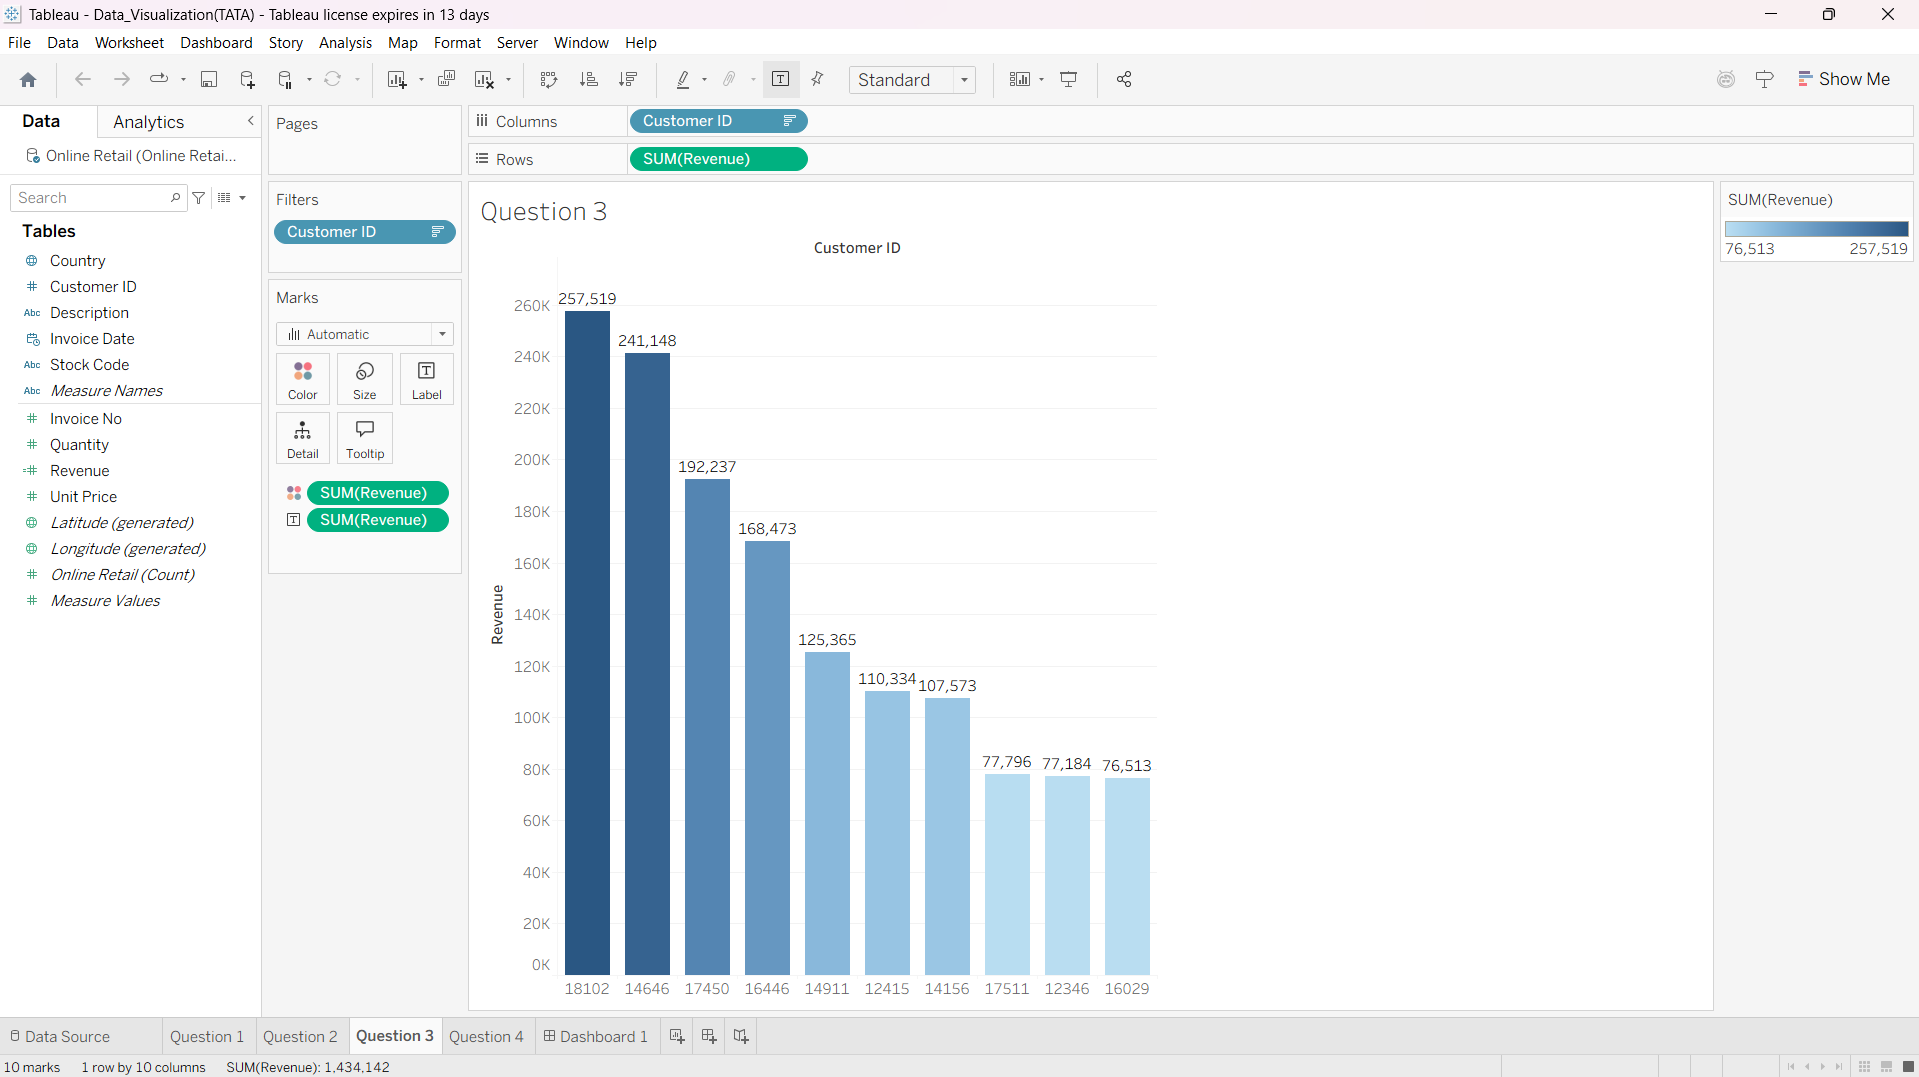

This screenshot's page, from the dashboard's own definition file:
{"tool":"powerbi","page":{"name":"Q3","canvas":[1280,720],"ordinal":2},"visuals":[{"type":"clusteredColumnChart","fields":{"Category":["Online Retail.CustomerID"],"Y":["Sum(Online Retail.Revenue)"]},"box":[9.6,0,977,697.1],"z":0}]}

Visuals, with their boxes on the page's 1280x720 design canvas (x1, y1, x2, y2). These are canvas units, not pixel positions in the 1919x1077 screenshot, which may show the page scaled, cropped or inside an application window:
clusteredColumnChart - Online Retail.CustomerID x Sum(Online Retail.Revenue): locate(10, 0, 987, 697)
